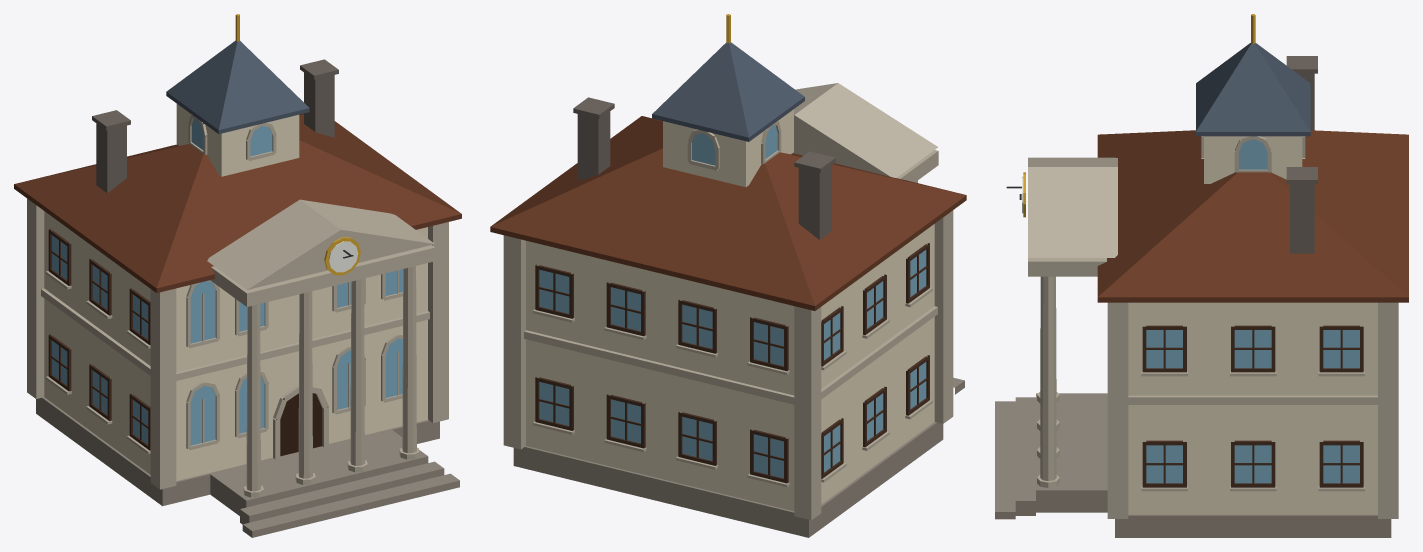
The model's file is library.fbx.
The picture shows the model from 3 angles, left to right: view 1: azimuth 30°, elevation 25°; view 2: azimuth 150°, elevation 25°; view 3: azimuth 270°, elevation 25°; orthographic projection. The views are drawn at different scales.
Parts seen in each view (by area): view 1: library; view 2: library; view 3: library.
Boxes of the visible parts, bbox=[...] form: library: bbox=[14, 14, 461, 537]; library: bbox=[490, 14, 966, 537]; library: bbox=[995, 14, 1408, 537].
Size of the model in its own units: 9.4 by 12.1 by 10.1.
